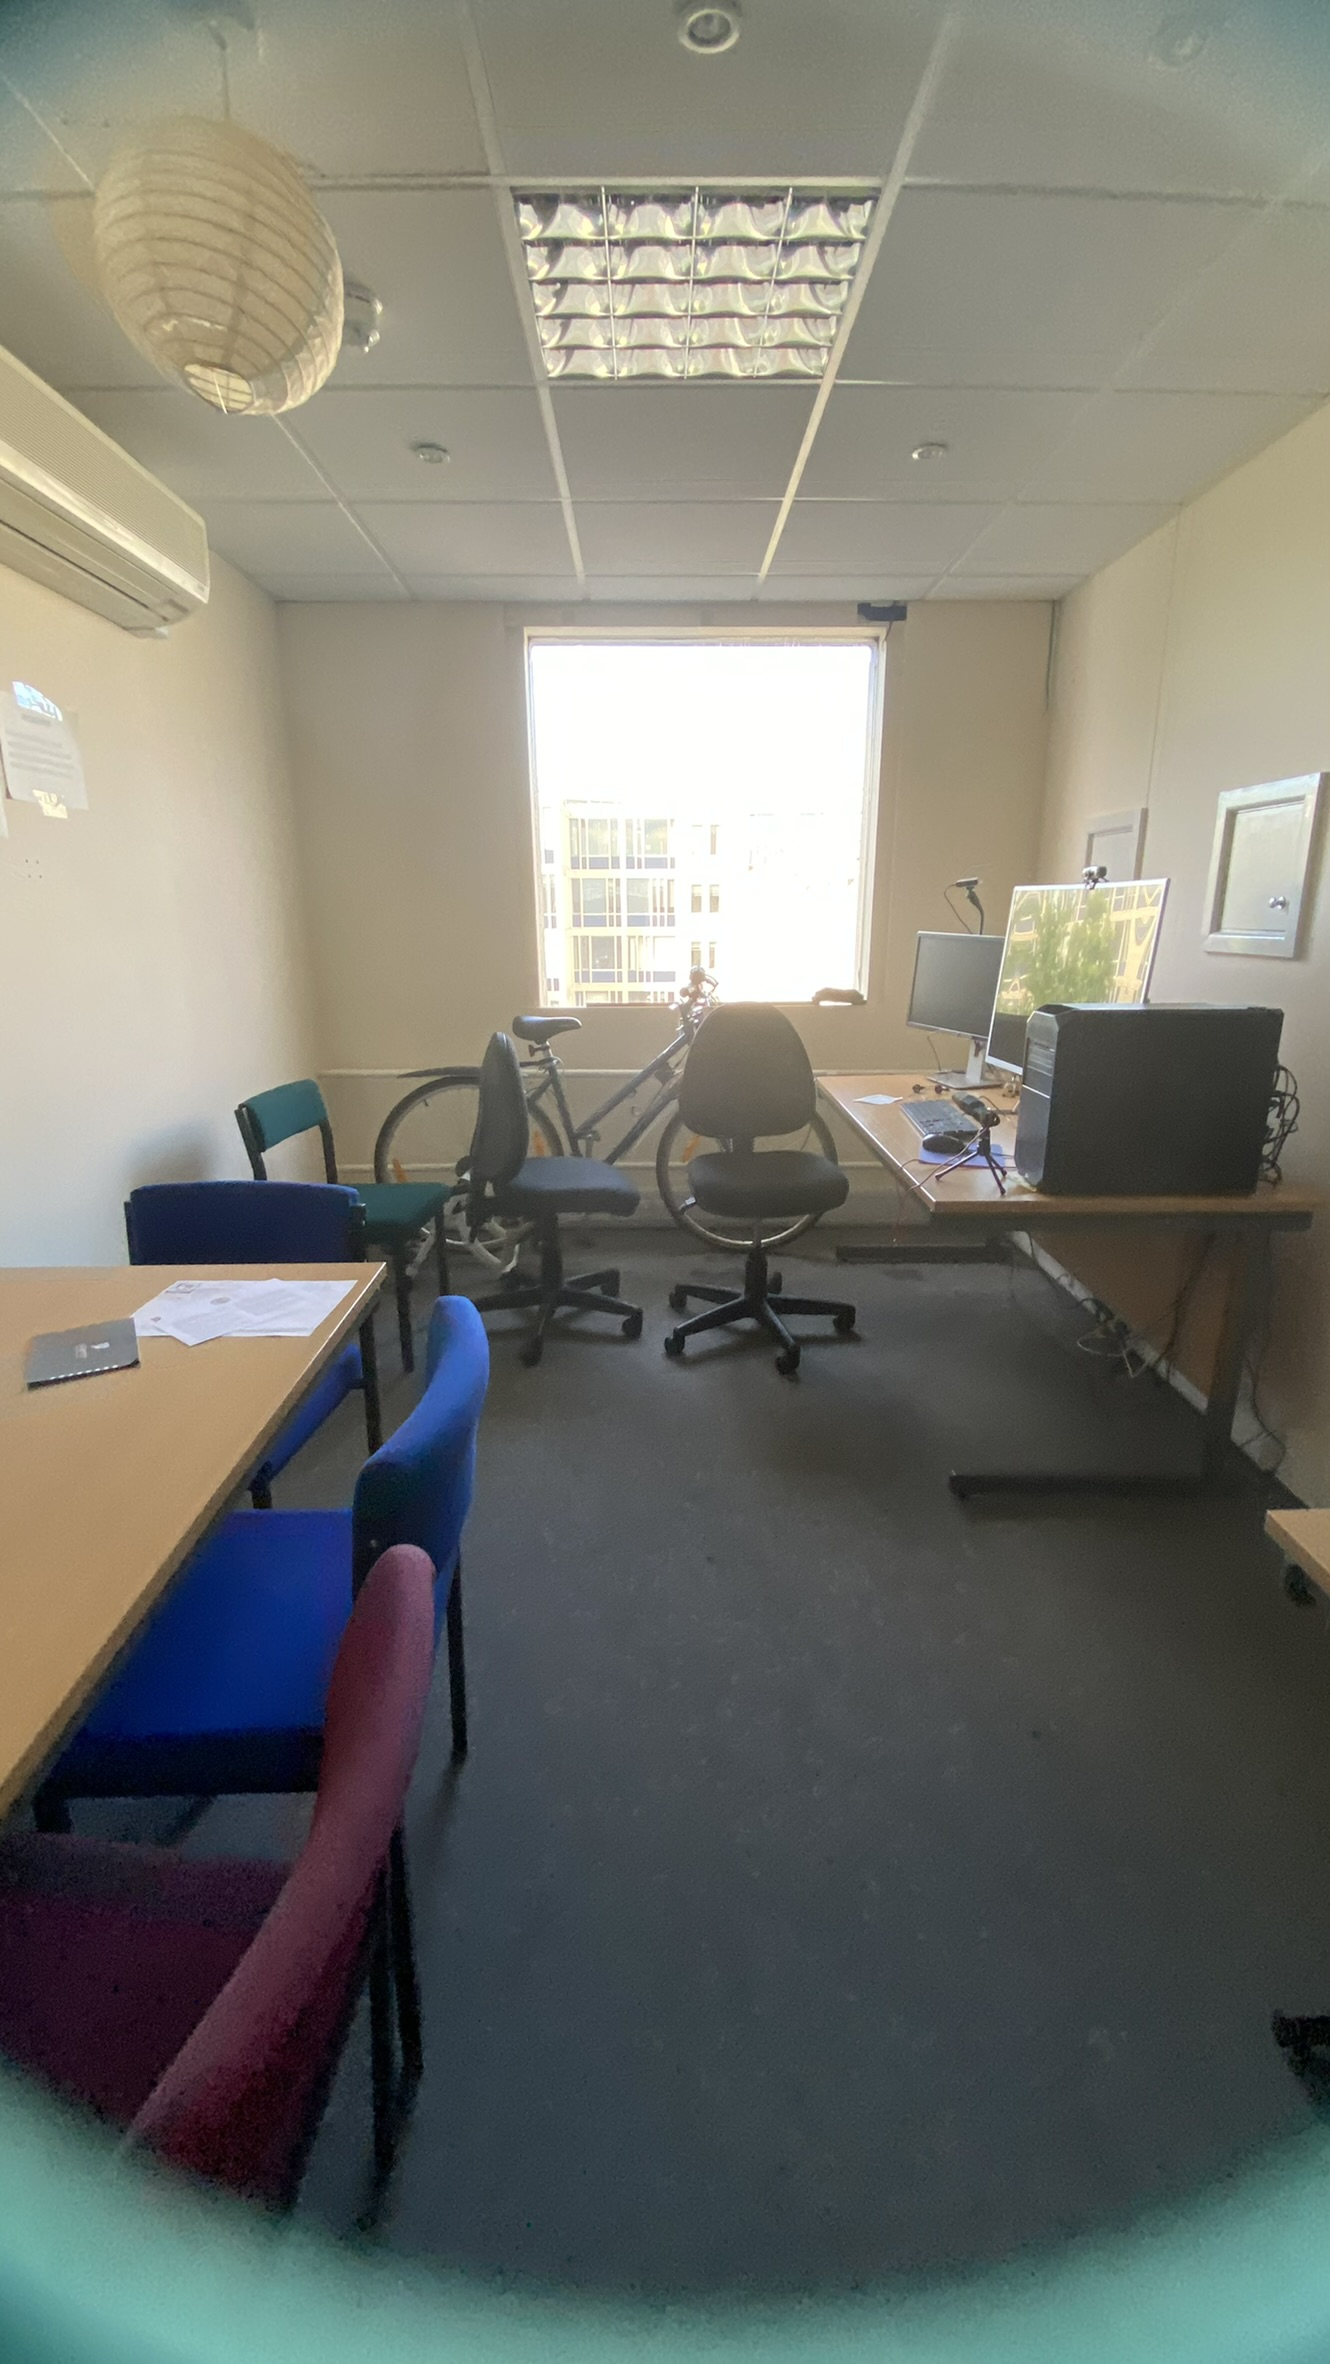chair: (55, 1286, 490, 2364), (611, 963, 906, 1443)
table: (6, 1138, 542, 2299)
